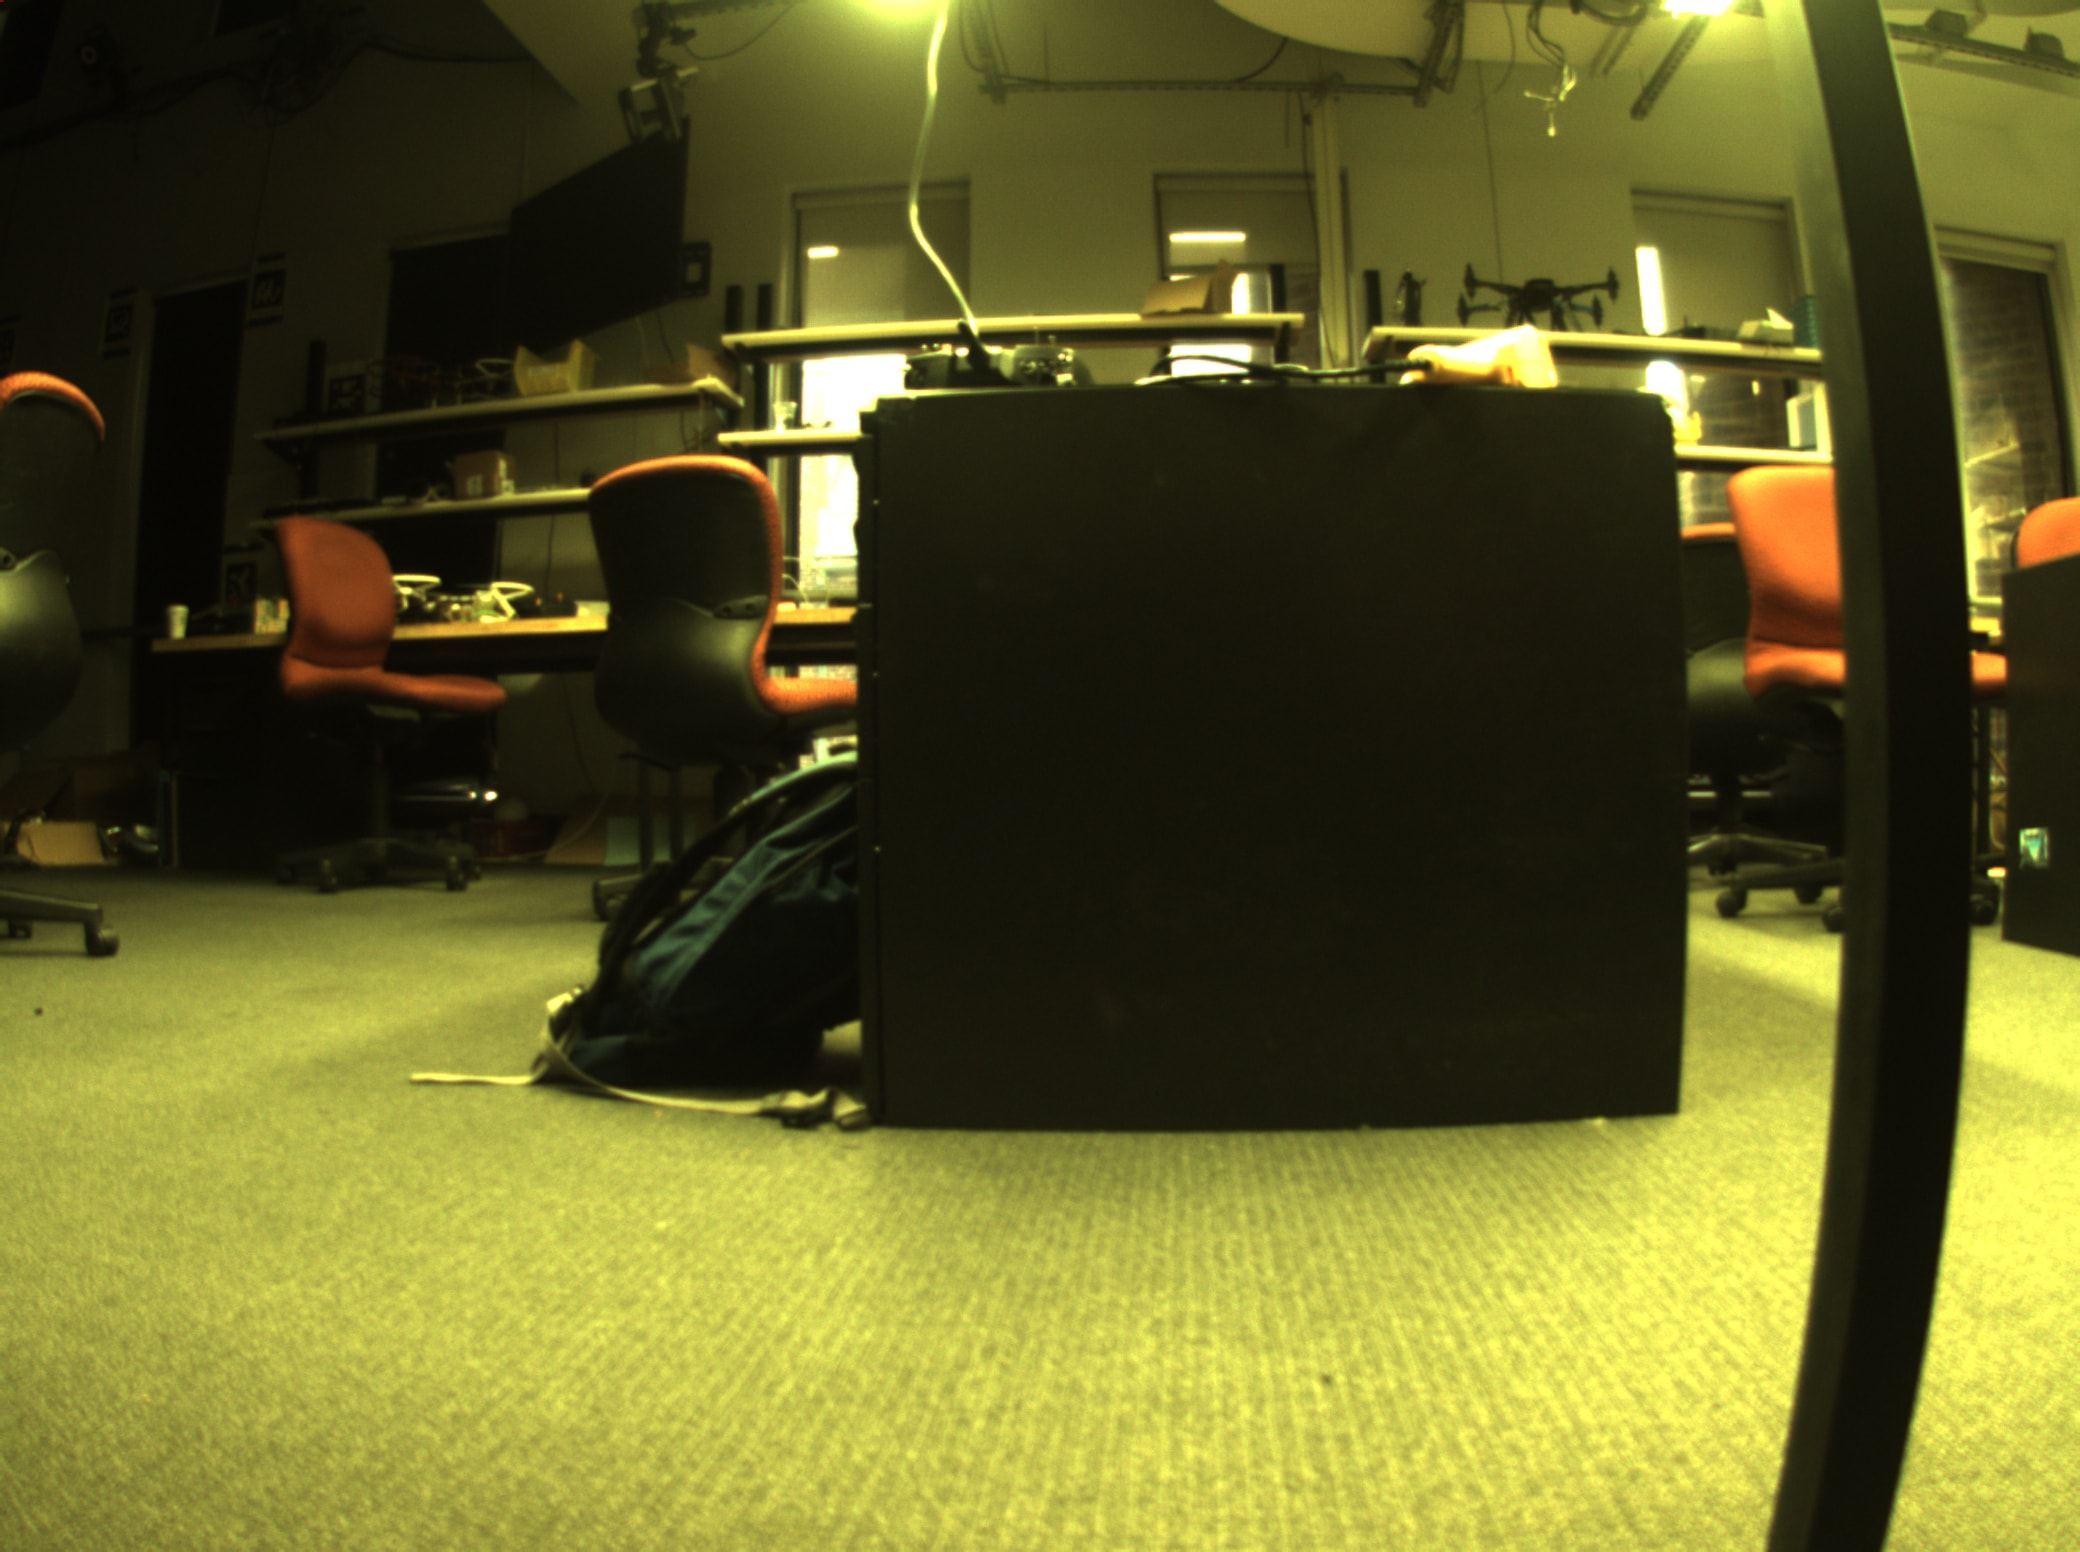chair: (1708, 427, 2028, 973), (571, 430, 856, 928), (231, 474, 520, 924)
